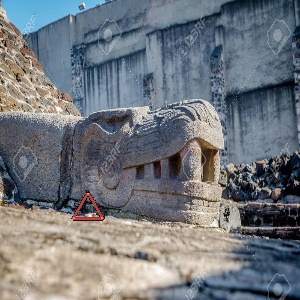triangle: (69, 190, 106, 223)
